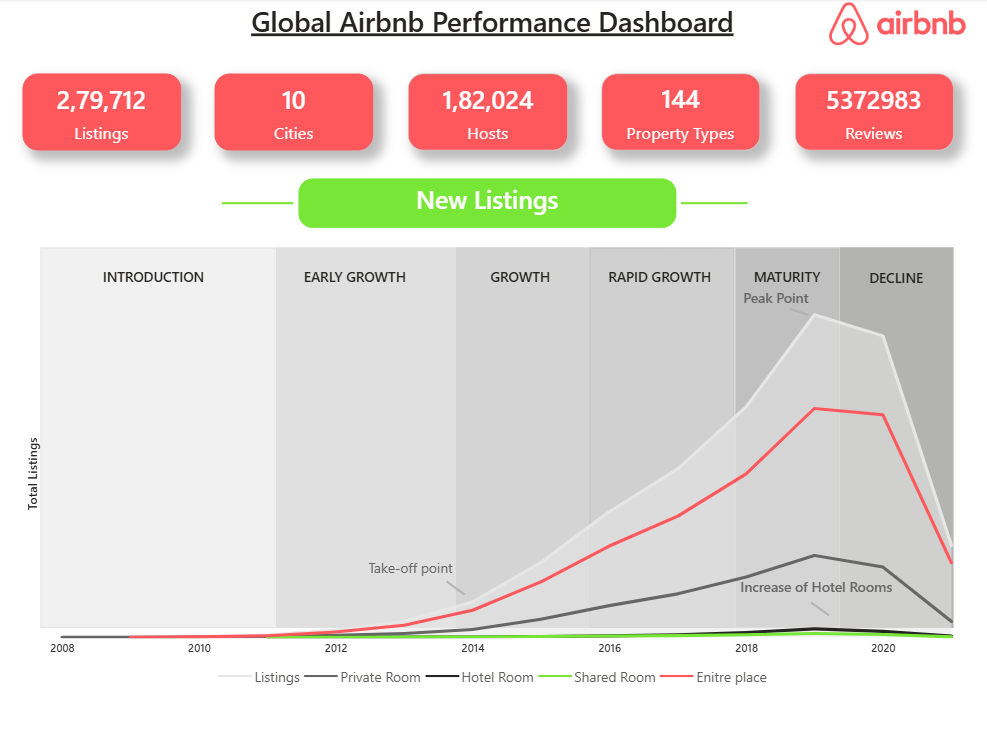

Layout of this report page (visuals, bound fields, positions):
{"tool":"powerbi","page":{"name":"Overview","canvas":[960,720],"ordinal":0},"visuals":[{"type":"textbox","box":[217.7,0,524.6,102],"z":0},{"type":"image","box":[785.3,0,174.9,51.8],"z":1000},{"type":"card","fields":{"Values":["CountNonNull(Listings.listing_id)"]},"box":[24.3,74.5,153.8,74.5],"z":2000},{"type":"card","fields":{"Values":["Count(Listings.city)"]},"box":[211.3,74.5,153.8,74.5],"z":3000},{"type":"card","fields":{"Values":["Count(Listings.host_id)"]},"box":[398.3,74.5,155.4,74.5],"z":4000},{"type":"card","fields":{"Values":["Count(Listings.property_type)"]},"box":[587,74.5,153.8,74.5],"z":5000},{"type":"card","fields":{"Values":["Count(Reviews.review_id)"]},"box":[774,74.5,153.8,74.5],"z":6000},{"type":"textbox","box":[292.6,176.1,366.8,48],"z":7000},{"type":"shape","box":[218.6,50.2,69.6,301.2],"z":8000},{"type":"shape","box":[663.9,50.2,64.8,301.2],"z":9000},{"type":"shape","box":[42.1,242.9,228.3,369.2],"z":10000},{"type":"shape","box":[270.4,242.9,174.9,369.2],"z":11000},{"type":"shape","box":[445.3,242.9,129.5,369.2],"z":12000},{"type":"shape","box":[574.8,242.9,140.9,369.2],"z":13000},{"type":"shape","box":[715.7,242.9,102,369.2],"z":14000},{"type":"shape","box":[817.7,242.9,110.1,369.2],"z":15000},{"type":"textbox","box":[97.2,255.8,118.2,34],"z":16000},{"type":"textbox","box":[728.7,255.8,118.2,34],"z":17000},{"type":"textbox","box":[293.1,255.8,118.2,34],"z":18000},{"type":"textbox","box":[842,257.5,118.2,34],"z":19000},{"type":"lineChart","fields":{"Category":["Reviews.date.Variation.Date Hierarchy.Year"],"Y":["CountNonNull(Listings.listing_id)","Listings.Private Room","Listings.Hotel Room","Listings.Shared Room","Listings.Enitre place"]},"box":[24.3,289.8,918.1,388.6],"z":20000},{"type":"textbox","box":[469.6,255.8,118.2,34],"z":21000},{"type":"textbox","box":[587.8,255.8,118.2,34],"z":22000},{"type":"textbox","box":[354.6,539.2,100.4,48.6],"z":23000},{"type":"shape","box":[435.6,524.6,19.4,98.8],"z":24000},{"type":"textbox","box":[718.9,276.9,98.8,29.1],"z":25000},{"type":"shape","box":[769.1,255.8,19.4,98.8],"z":26000},{"type":"textbox","box":[715.7,557,192.7,37.2],"z":27000},{"type":"shape","box":[788.6,544.1,19.4,98.8],"z":28000}]}

Visuals, with their boxes in screenshot pixels (x1, y1, x2, y2), scaled from the page's 960x720 canvas onto the 987x735 screenshot:
textbox: (224, 0, 763, 104)
image: (807, 0, 986, 53)
card - CountNonNull(Listings.listing_id): (25, 76, 183, 152)
card - Count(Listings.city): (217, 76, 375, 152)
card - Count(Listings.host_id): (410, 76, 569, 152)
card - Count(Listings.property_type): (604, 76, 762, 152)
card - Count(Reviews.review_id): (796, 76, 954, 152)
textbox: (301, 180, 678, 229)
shape: (225, 51, 296, 359)
shape: (683, 51, 749, 359)
shape: (43, 248, 278, 625)
shape: (278, 248, 458, 625)
shape: (458, 248, 591, 625)
shape: (591, 248, 736, 625)
shape: (736, 248, 841, 625)
shape: (841, 248, 954, 625)
textbox: (100, 261, 221, 296)
textbox: (749, 261, 871, 296)
textbox: (301, 261, 423, 296)
textbox: (866, 263, 986, 298)
lineChart - Reviews.date.Variation.Date Hierarchy.Year x CountNonNull(Listings.listing_id): (25, 296, 969, 693)
textbox: (483, 261, 604, 296)
textbox: (604, 261, 726, 296)
textbox: (365, 550, 468, 600)
shape: (448, 536, 468, 636)
textbox: (739, 283, 841, 312)
shape: (791, 261, 811, 362)
textbox: (736, 569, 934, 607)
shape: (811, 555, 831, 656)
